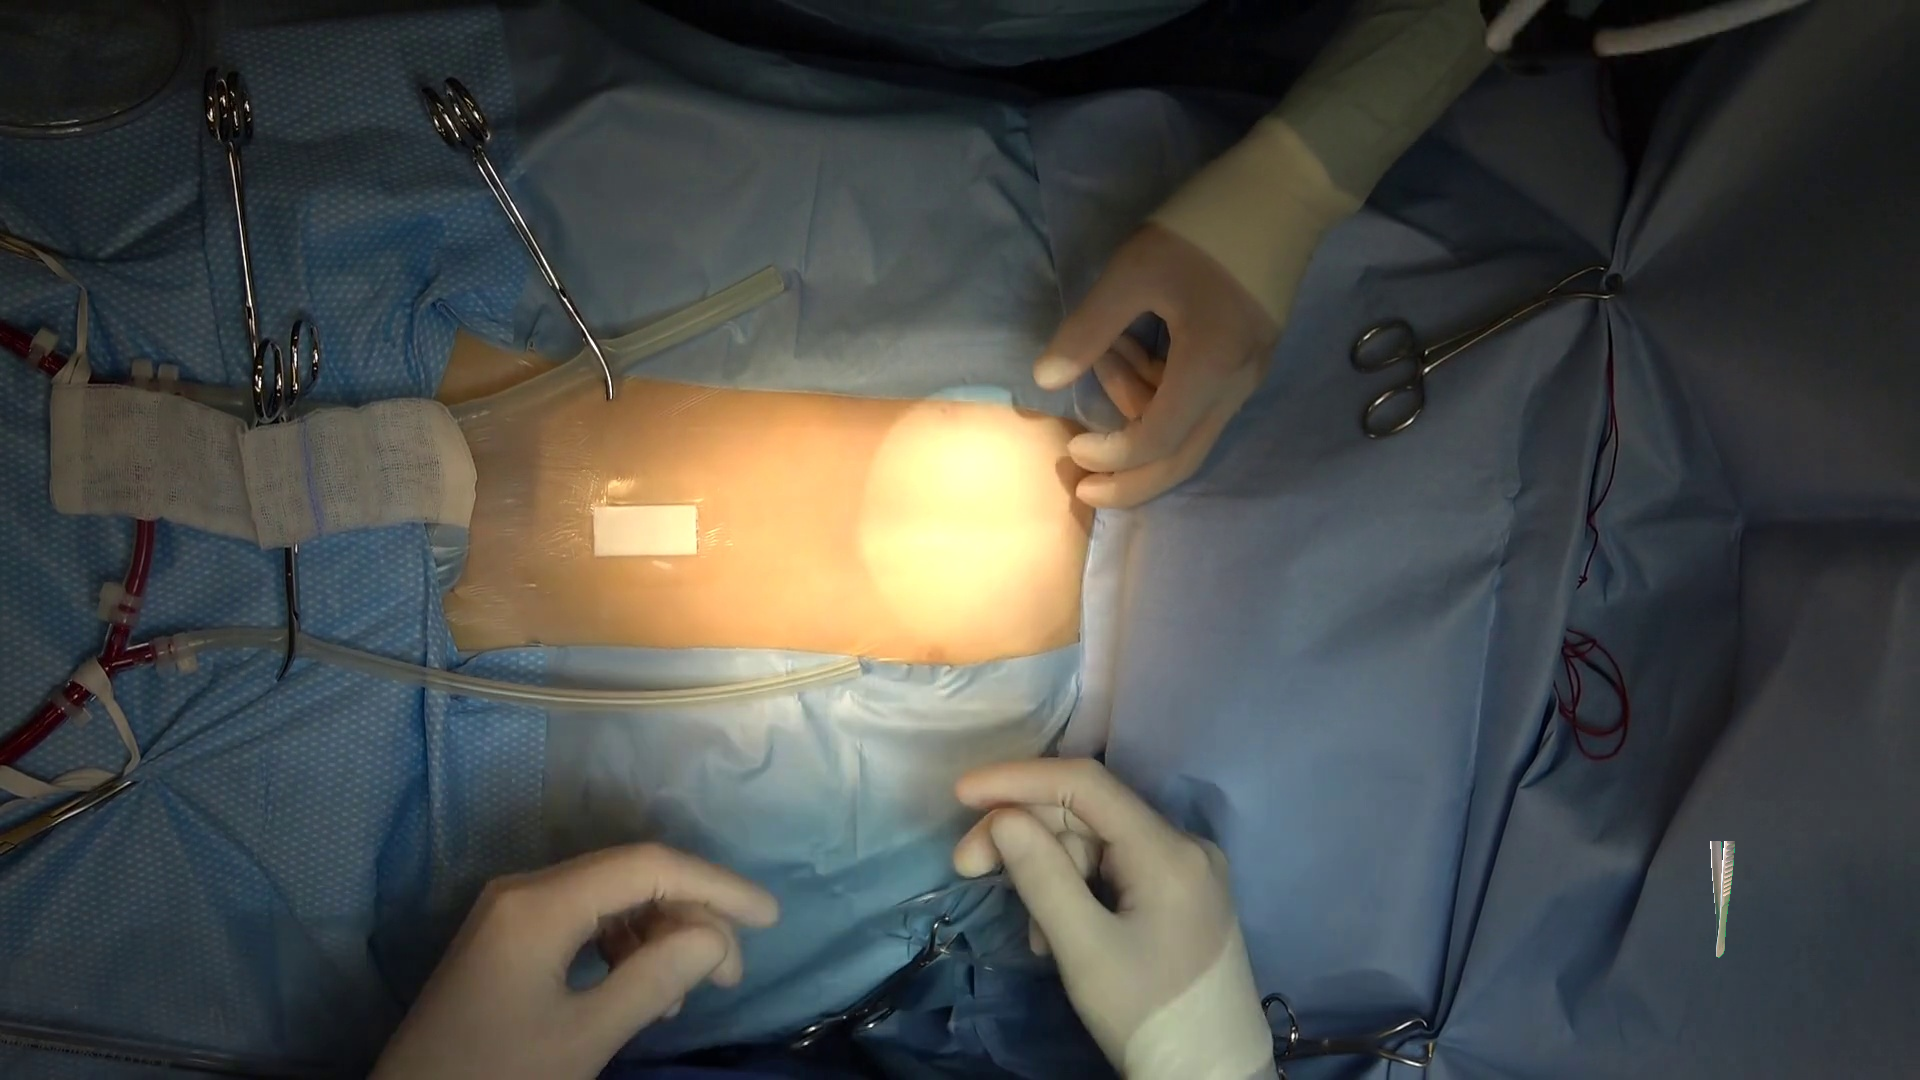forceps: (1710, 841, 1734, 957)
